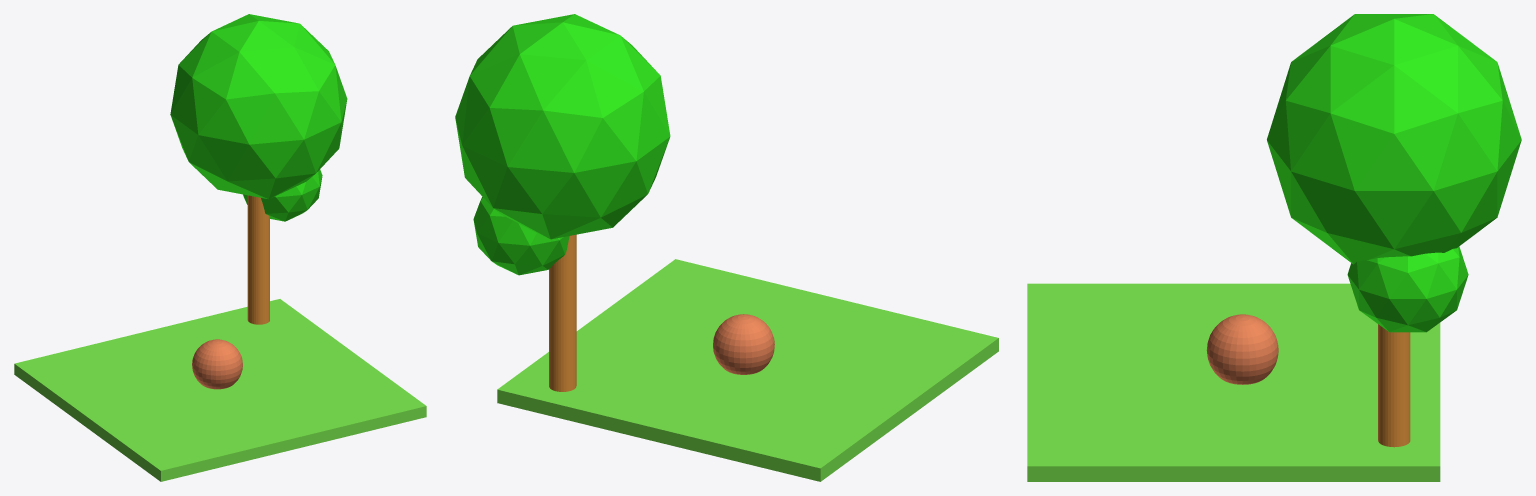
The model's file is tree1.glb.
3 views of the same model, side by side, from view 1: azimuth 30°, elevation 25°; view 2: azimuth 150°, elevation 25°; view 3: azimuth 270°, elevation 25° (orthographic). The views are drawn at different scales.
Parts seen in each view (by area): view 1: Cube, LLarge, Cylinder, Sphere, Lsmall; view 2: Cube, LLarge, Lsmall, Cylinder, Sphere; view 3: Cube, LLarge, Lsmall, Sphere, Cylinder.
Boxes of the visible parts, x1,y1,x2,y2 form: Cube: (14,299,426,481); LLarge: (170,14,347,199); Cylinder: (247,195,269,324); Sphere: (192,339,242,389); Lsmall: (243,169,322,221); Cube: (497,259,998,481); LLarge: (455,14,670,239); Lsmall: (473,197,569,275); Cylinder: (549,234,576,391); Sphere: (713,314,774,374); Cube: (1027,283,1440,481); LLarge: (1267,14,1521,264); Lsmall: (1347,246,1468,332); Sphere: (1206,314,1278,384); Cylinder: (1378,324,1410,447).
Size of the model in its own units: 13.69 by 13.41 by 13.74.
